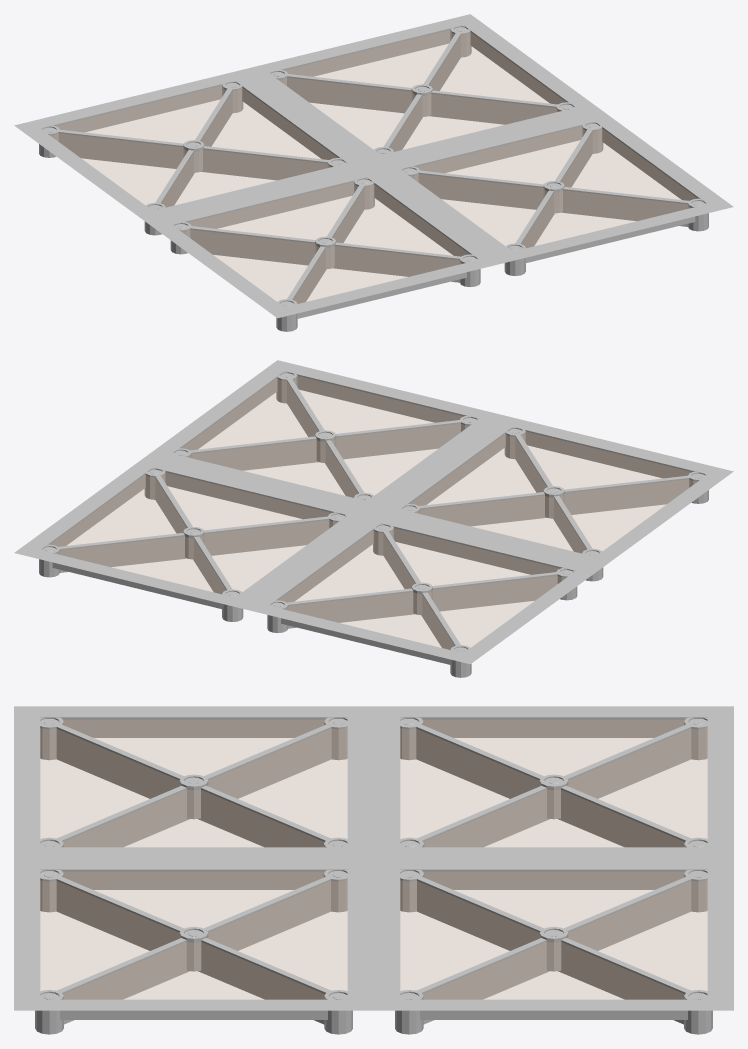
File: floor_tile.fbx
3 views of the same model, one above another, from view 1: azimuth 30°, elevation 25°; view 2: azimuth 150°, elevation 25°; view 3: azimuth 270°, elevation 25° (orthographic). The views are drawn at different scales.
Parts seen in each view (by area): view 1: Plane; view 2: Plane; view 3: Plane.
Part boxes in pixels (x1,y1,x2,y2): Plane: [14, 14, 733, 331]; Plane: [14, 360, 733, 677]; Plane: [14, 706, 733, 1034].
Size of the model in its own units: 10 by 0.5309 by 10.
